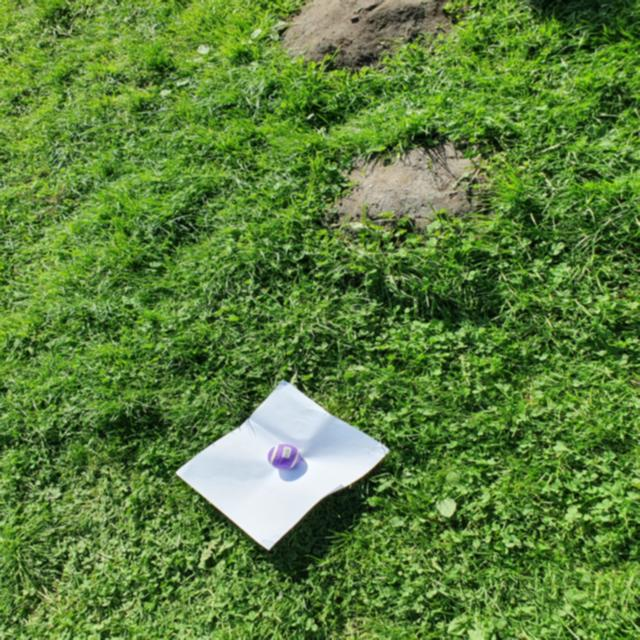purple: (268, 444, 301, 469)
